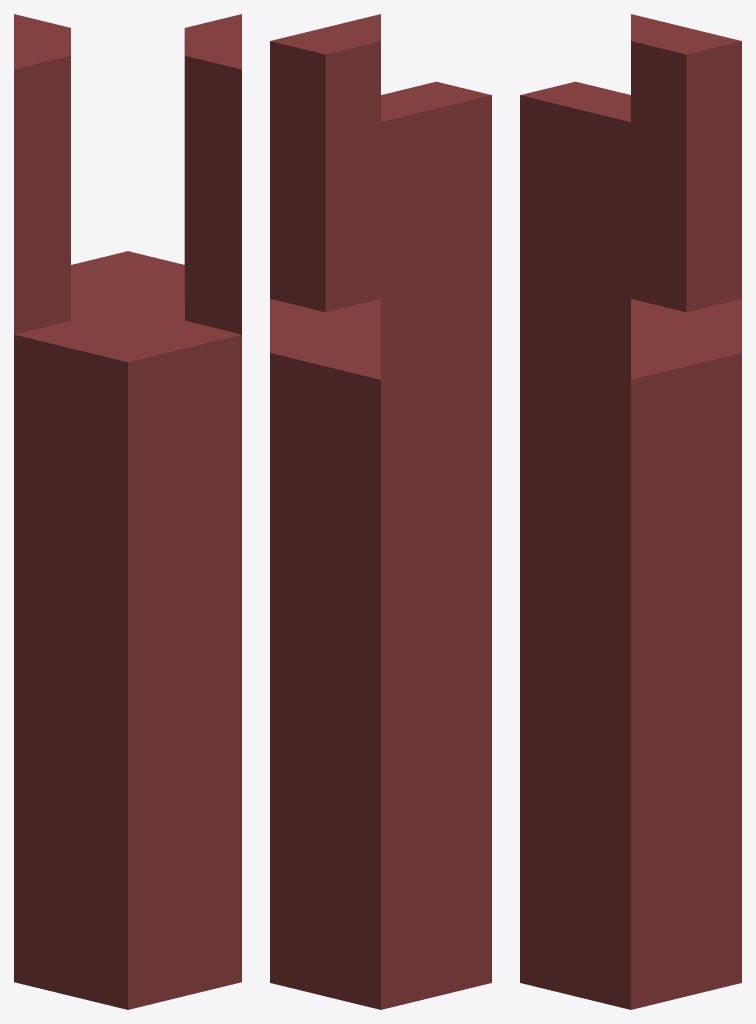
Rendered from Hex_Tall_6.fbx.
3 views of the same model, side by side, from view 1: azimuth 30°, elevation 25°; view 2: azimuth 150°, elevation 25°; view 3: azimuth 270°, elevation 25° (orthographic). The views are drawn at different scales.
Visible parts, largest first — view 1: TileHex6; view 2: TileHex6; view 3: TileHex6.
Boxes of the visible parts, box(x1,y1,x2,y2) form: TileHex6: box(14, 14, 241, 1009); TileHex6: box(270, 14, 491, 1009); TileHex6: box(520, 14, 741, 1009).
Bounding box in the file's own units: 118 × 450 × 102.
